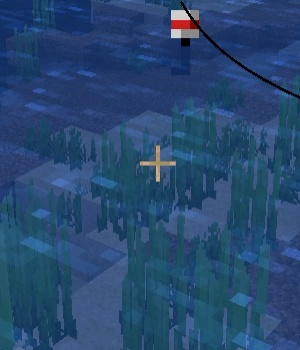up: (163, 2, 208, 83)
